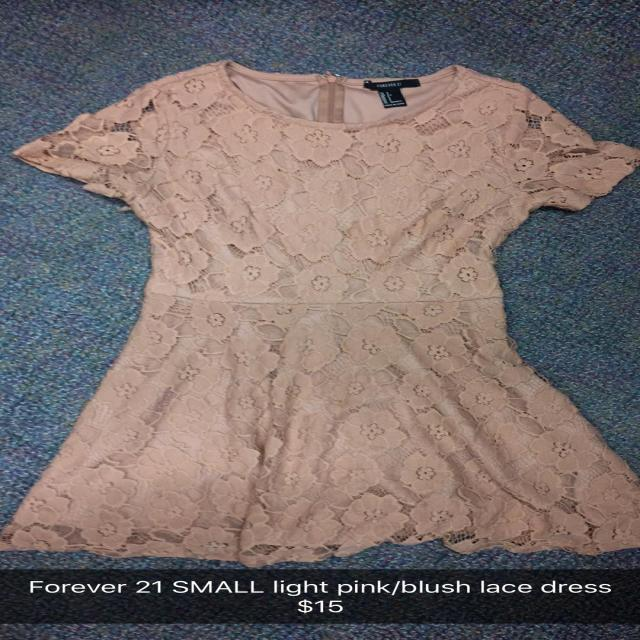Dress: (12, 54, 640, 560)
